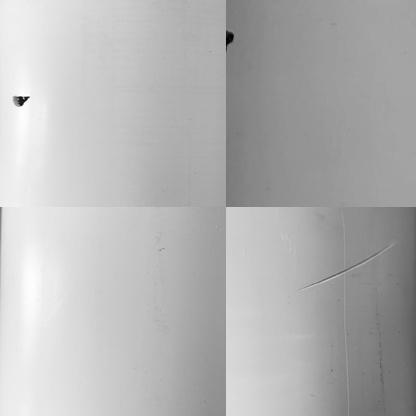kongdong: (7, 94, 29, 109), (223, 29, 235, 52)
sunshang: (294, 239, 394, 290)
